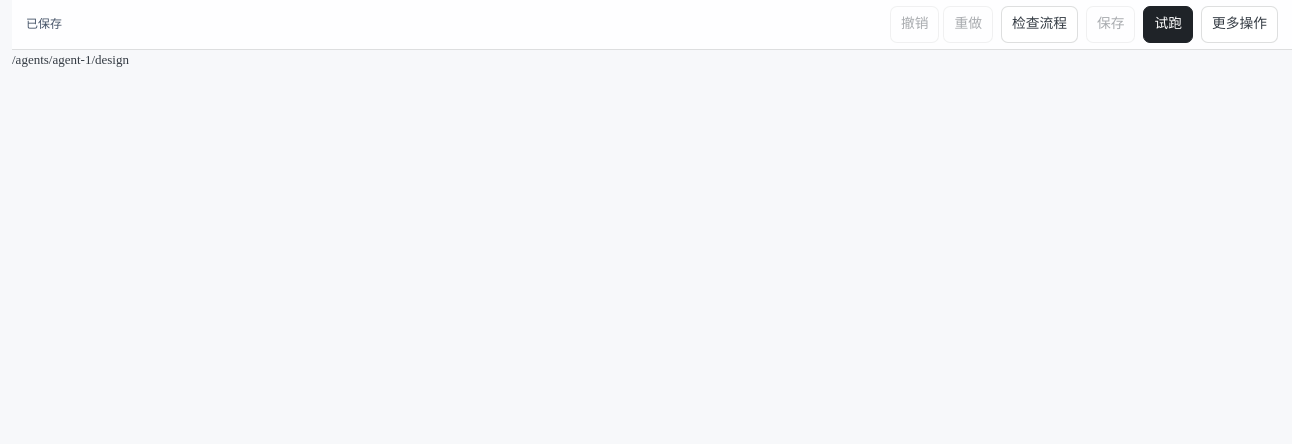
Test case: Builder Run commands › keeps document/version commands in an accessible secondary menu
The width and height of the screenshot is (1292, 444).
Click the heading "更多操作" at [1240, 24], box left=1201, top=6, right=1278, bottom=43
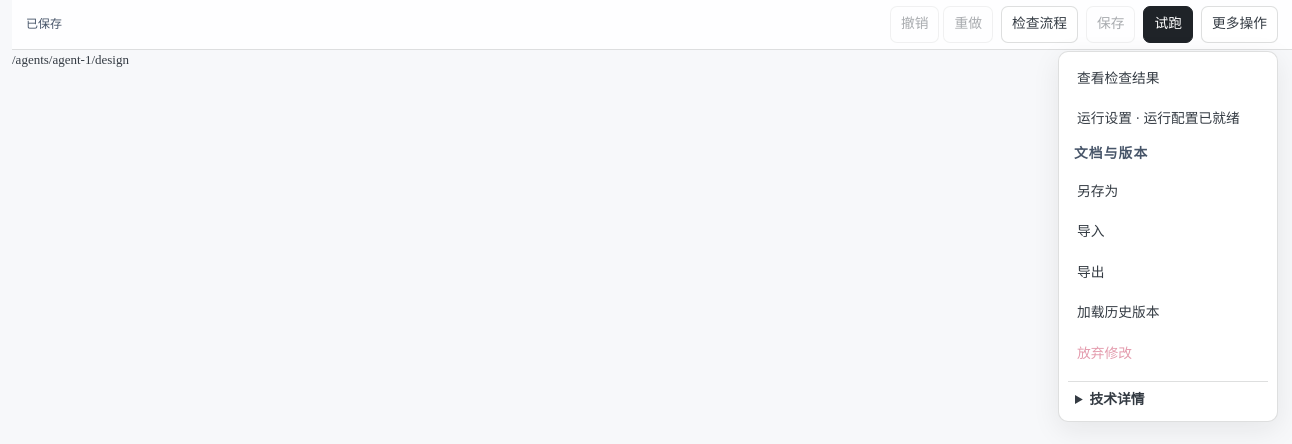
expect the heading "技术详情" is shown: met, box left=1090, top=392, right=1145, bottom=407
